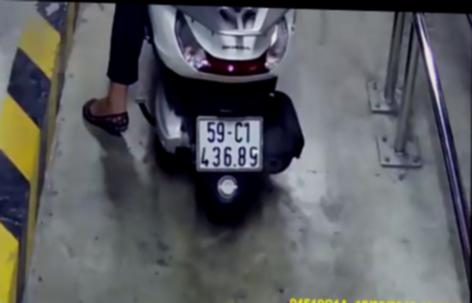License_Plate: (188, 109, 267, 176)
